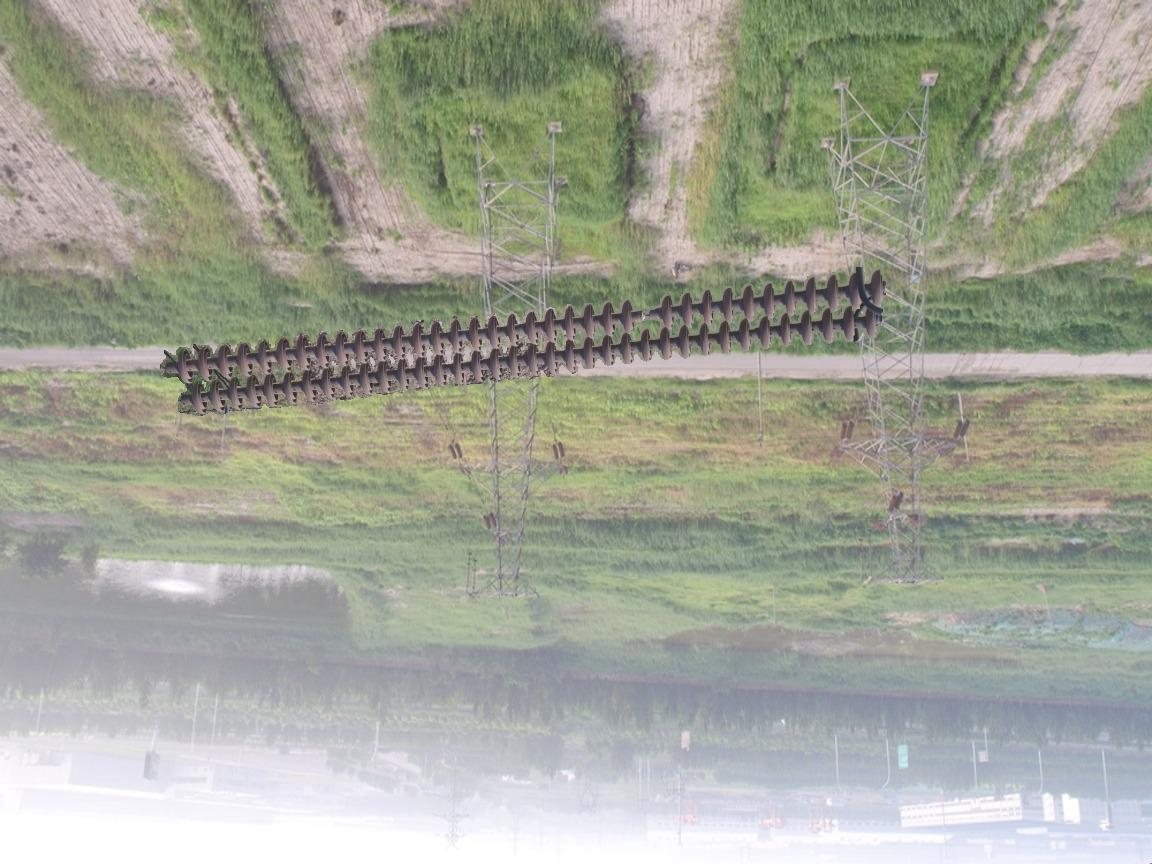insulator: (165, 269, 893, 417)
insulator_stringdrop: (619, 293, 677, 335)
